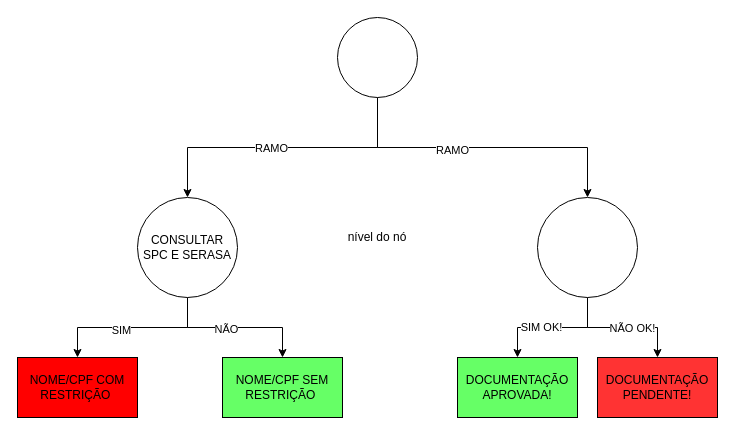
This 735x435 diagram has some shape labels left out. Each missing label, with the box of its shape:
FRAUDE?: (336, 16, 418, 98)
VERIFICAR DOCUMENTOS: (536, 196, 638, 298)
